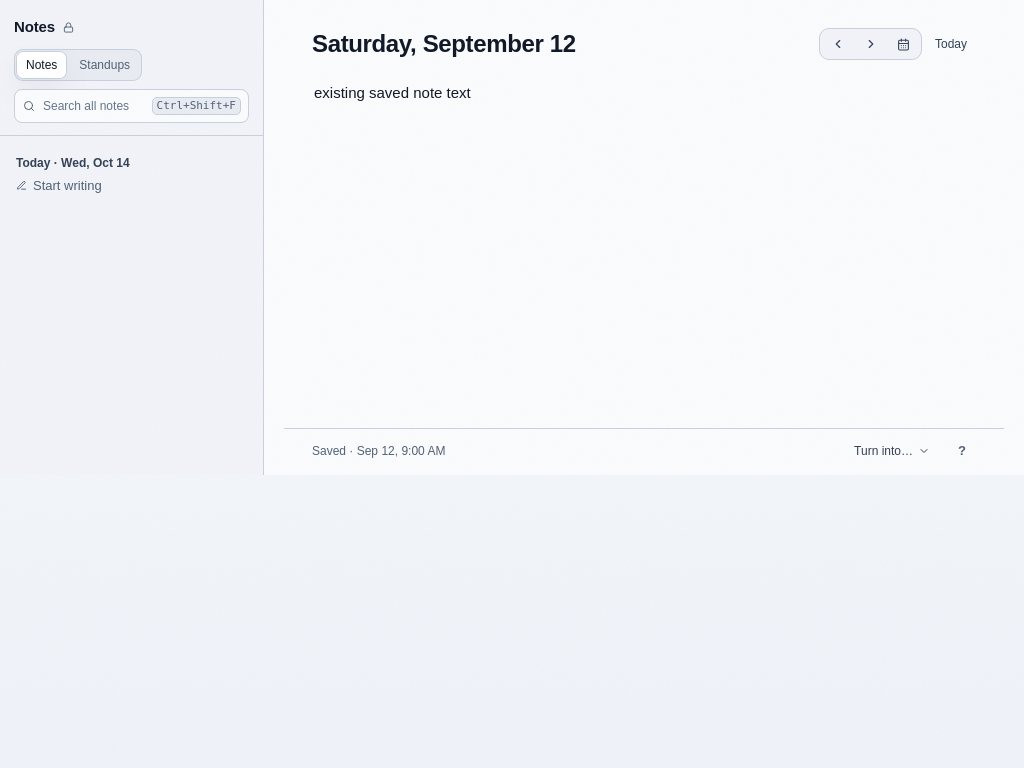
NotesPage › rejects an invalid follow-up due date
Step 1. Click the button "Turn into…" → {"x": 892, "y": 451}, box [844, 437, 940, 465]
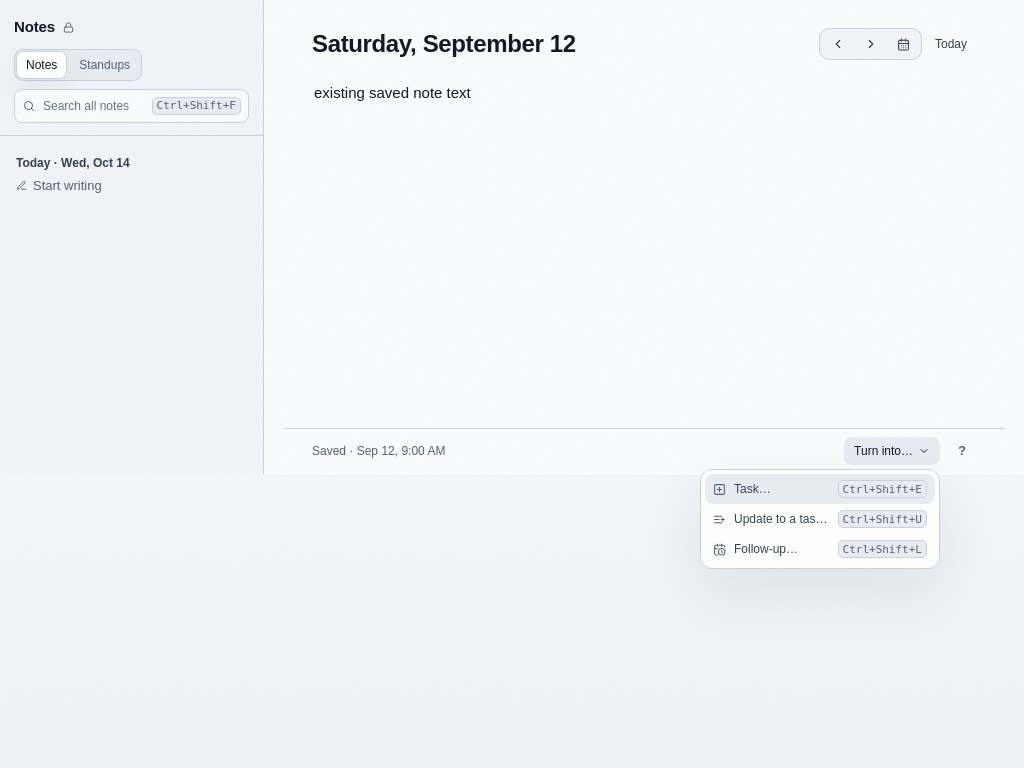
Step 2. Click the menu item "Follow-up… Ctrl+Shift+L" → {"x": 820, "y": 549}, box [705, 534, 935, 564]
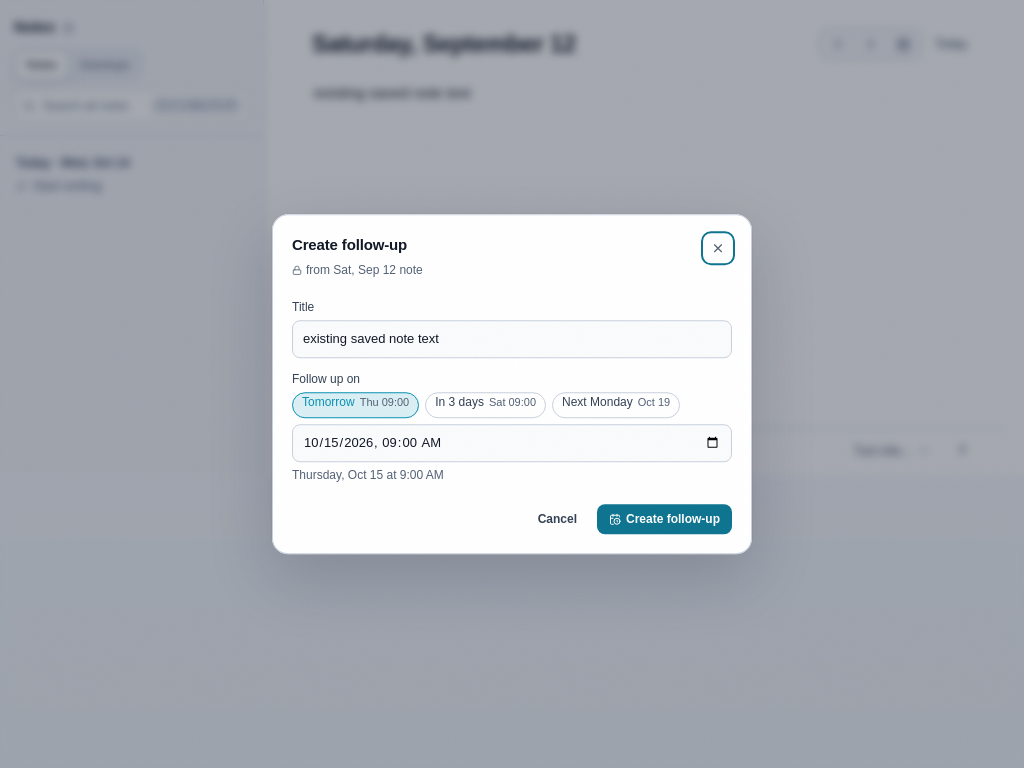
Step 3. Replace the text in the field labelled "Title" with "Something" → {"x": 512, "y": 339}, box [292, 320, 732, 358]
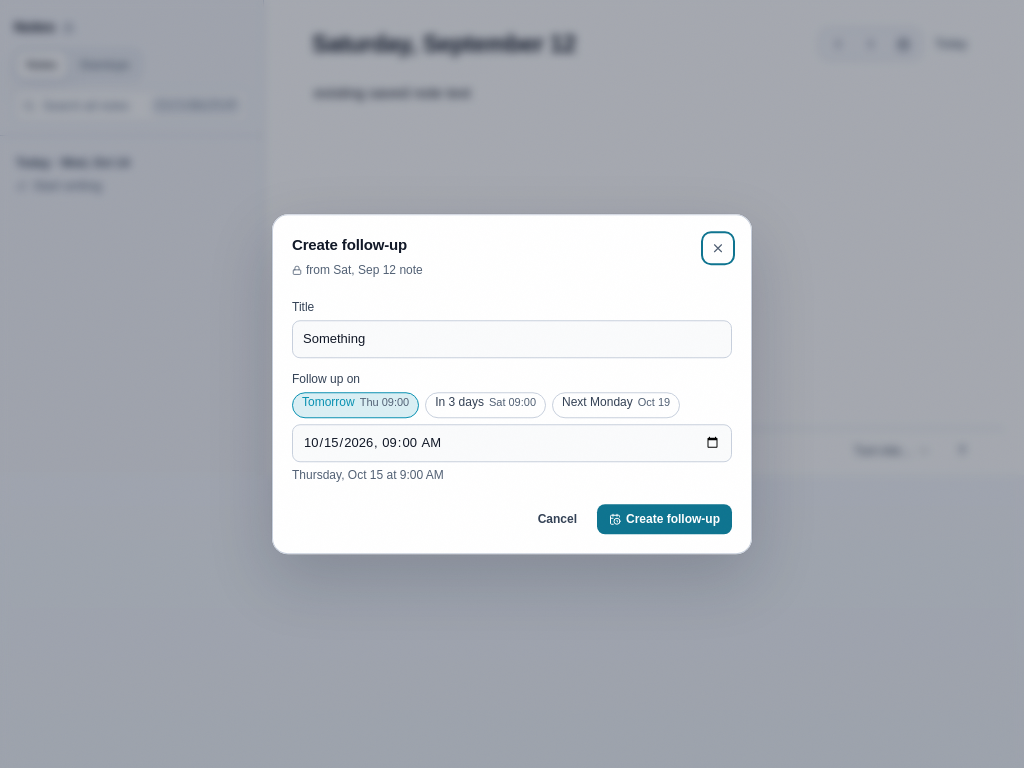
Step 4. Clear the field labelled "Follow up on" → {"x": 512, "y": 443}, box [292, 424, 732, 462]
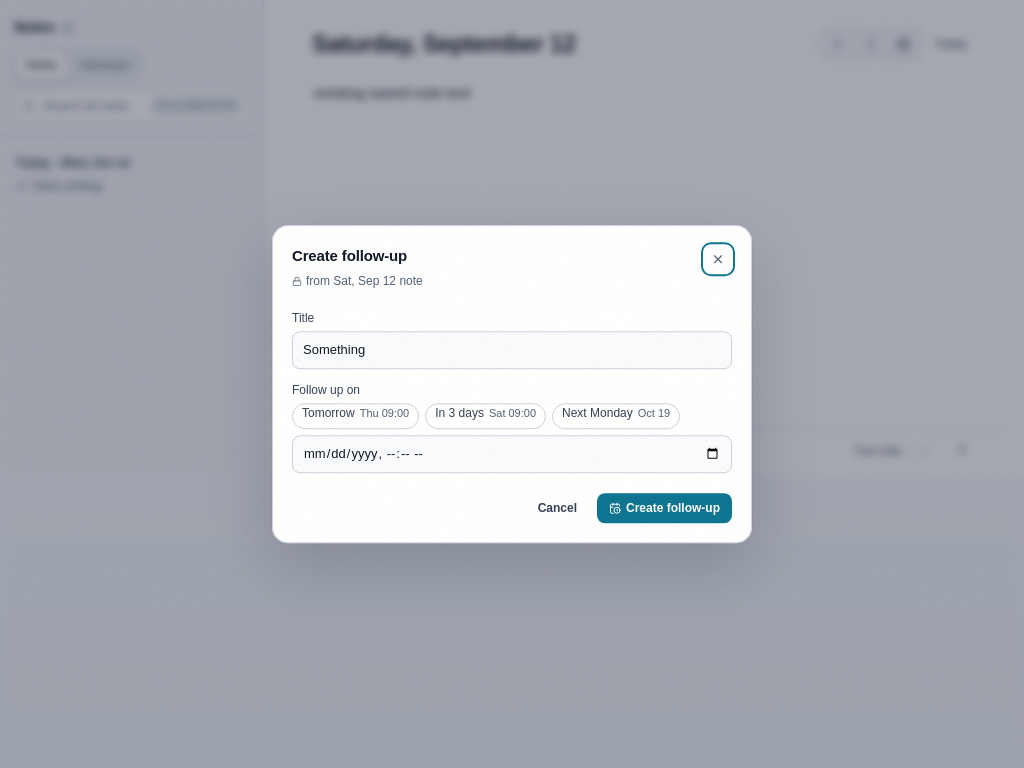
Step 5. Click the button "Create follow-up" → {"x": 664, "y": 508}, box [597, 493, 732, 523]
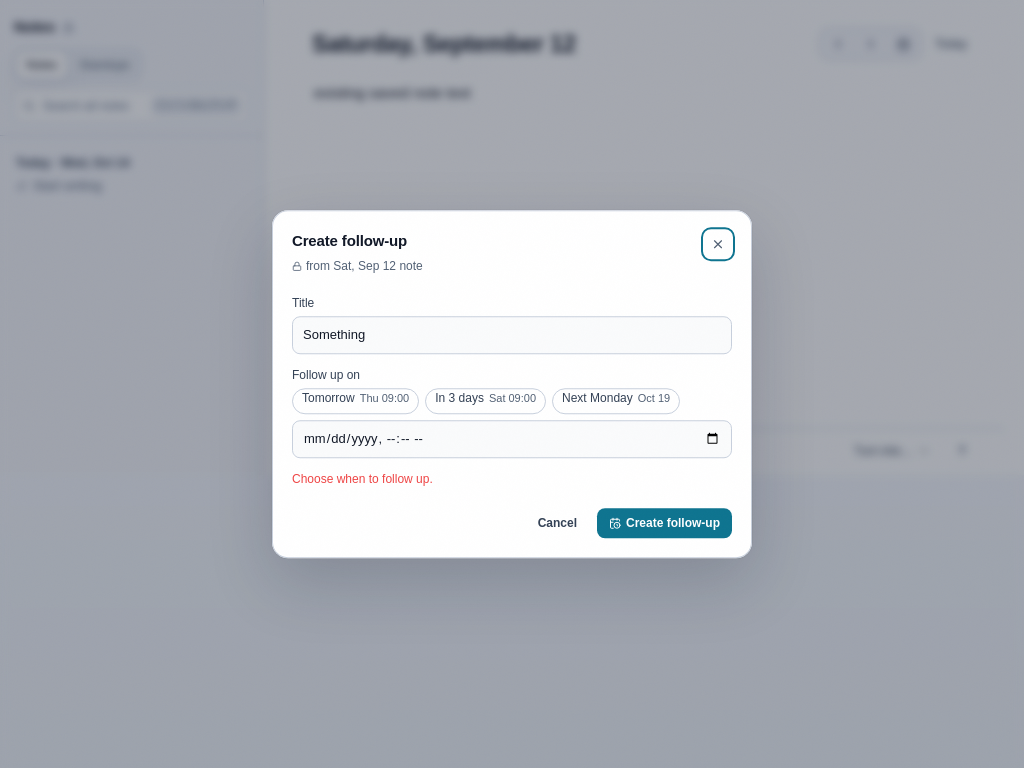
Expected: the message reads "Choose when to follow up.", [292, 472, 433, 486]
